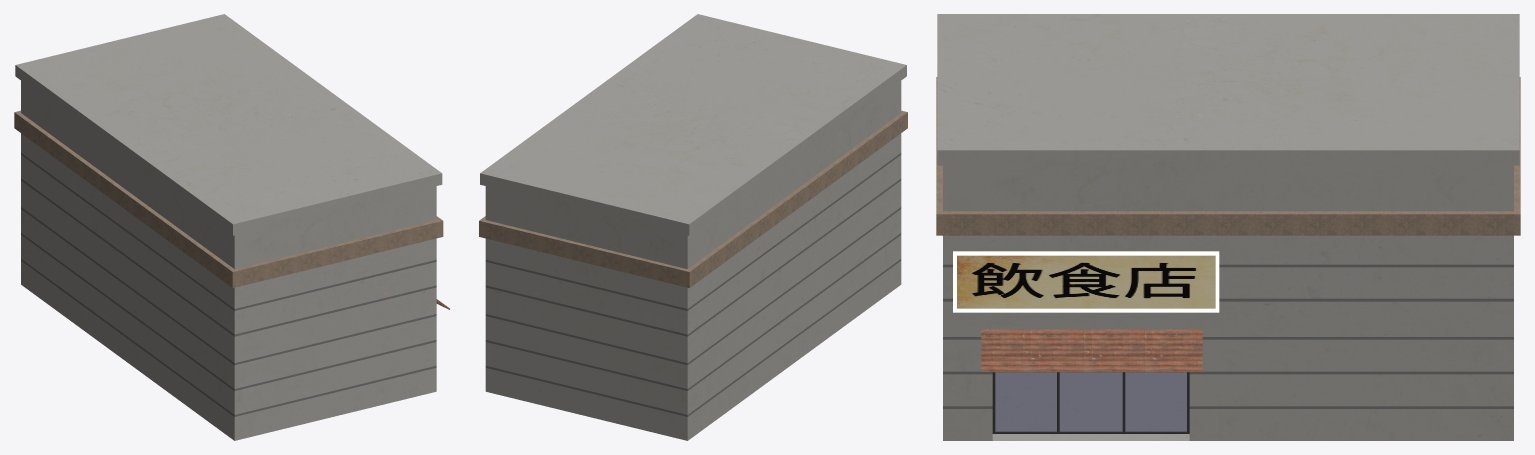
Rendered from gray.glb.
3 renders of one model, left to right at view 1: azimuth 30°, elevation 25°; view 2: azimuth 150°, elevation 25°; view 3: azimuth 270°, elevation 25°, orthographic. The views are drawn at different scales.
Visible parts, largest first — view 1: Cube.004; view 2: Cube.004; view 3: Cube.004.
Boxes of the visible parts, x1=… form: Cube.004: x1=14, y1=14, x2=449, y2=440; Cube.004: x1=479, y1=14, x2=907, y2=440; Cube.004: x1=936, y1=14, x2=1520, y2=440.
Bounding box in the file's own units: 9.56 × 8.53 × 15.42.
Materials: 7 (5 with a texture image).
